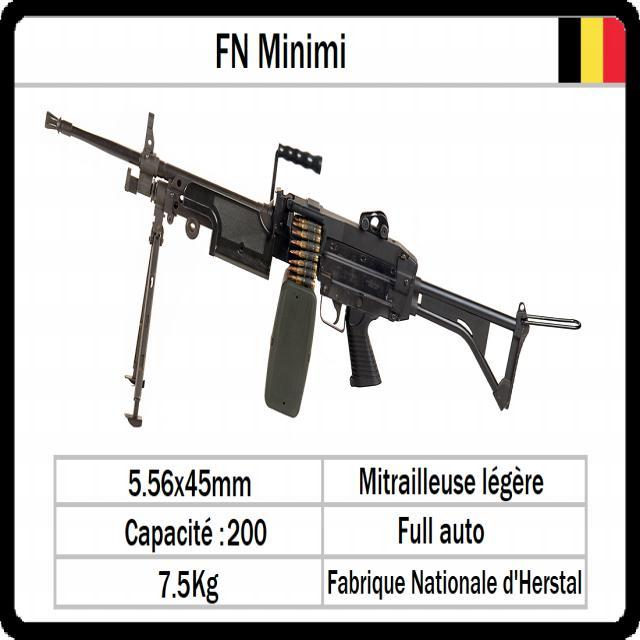weapon: (44, 108, 584, 429)
